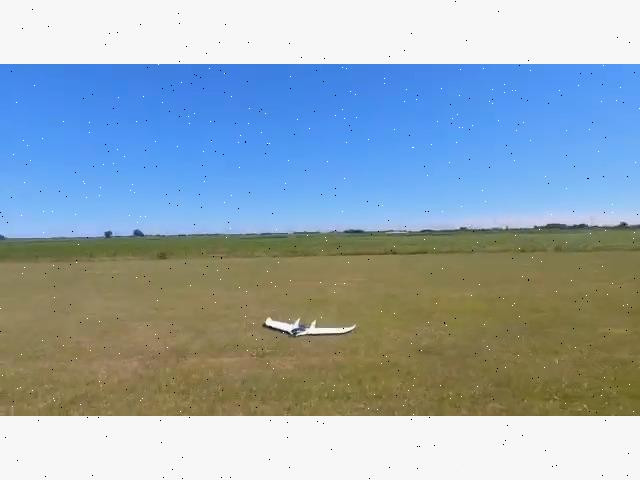Anti-Drone: (250, 304, 366, 344)
